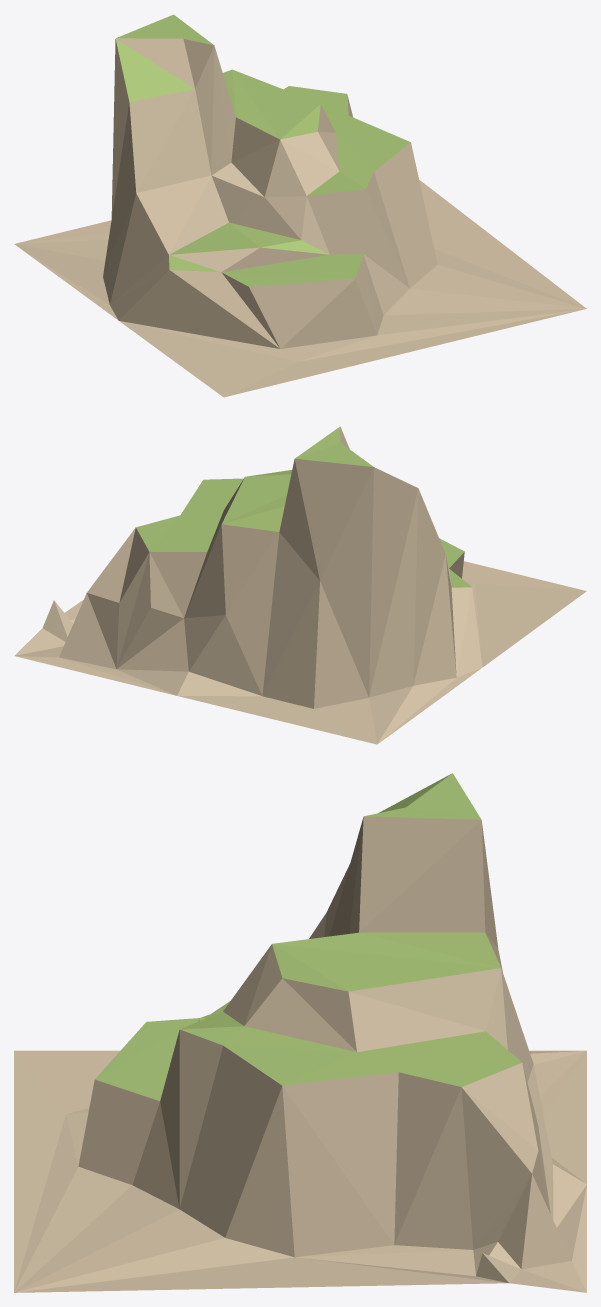
The model's file is mountain2.fbx.
3 views of the same model, one above another, from view 1: azimuth 30°, elevation 25°; view 2: azimuth 150°, elevation 25°; view 3: azimuth 270°, elevation 25° (orthographic). The views are drawn at different scales.
Visible parts, largest first — view 1: mountain; view 2: mountain; view 3: mountain.
Boxes of the visible parts, bbox=[...] form: mountain: bbox=[14, 14, 586, 397]; mountain: bbox=[14, 426, 586, 744]; mountain: bbox=[14, 773, 586, 1292].
Size of the model in its own units: 10006 by 6064 by 10000.
